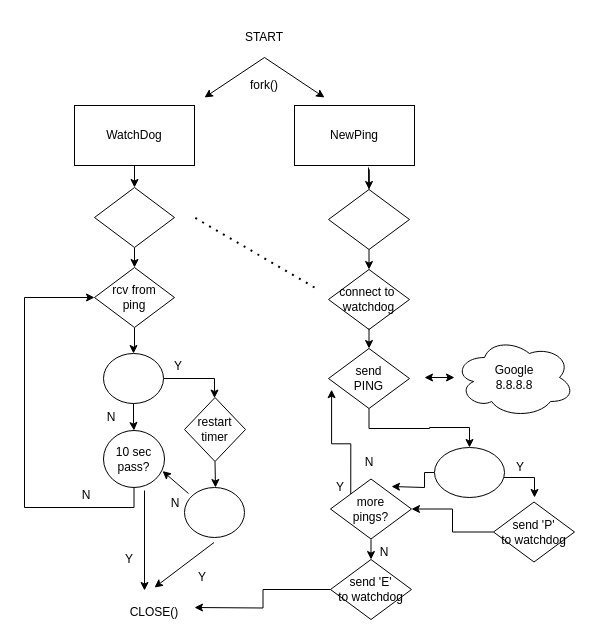
Image size: 592x644. Some labels were removed from this diagram. Here are the shapes that lost their labels. From the top down, the box of each, then its label:
(94, 186, 174, 248): waits for ping
(328, 188, 410, 250): loads data
(102, 352, 164, 404): has data?
(434, 446, 504, 498): succesed?
(184, 486, 244, 538): got 'E'?
